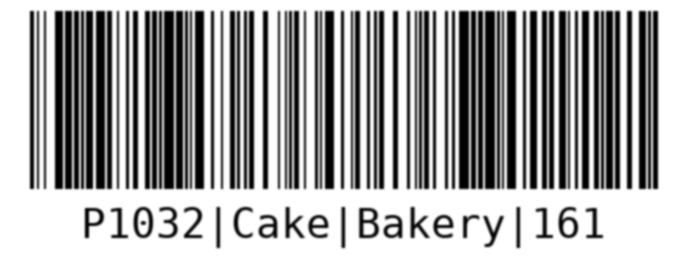milk: (26, 5, 662, 253)
